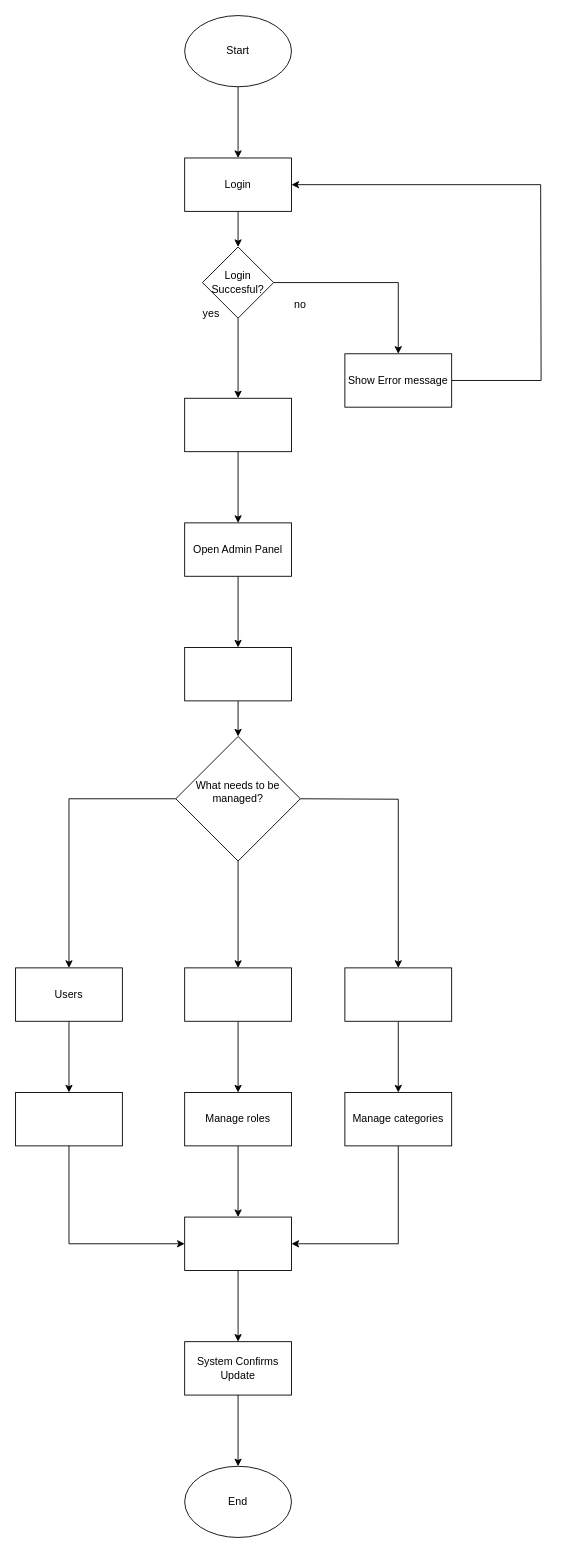
This 563x1553 diagram has some shape labels left out. The shapes that lost their labels are listed below. From the top down, each one's centre as x and y in pixels, then its label:
the point at 237,424: Admin Dashboard
the point at 237,674: Choose Management Action
the point at 237,994: Roles
the point at 398,994: Categories
the point at 68,1119: Manage users
the point at 237,1243: Save changes
